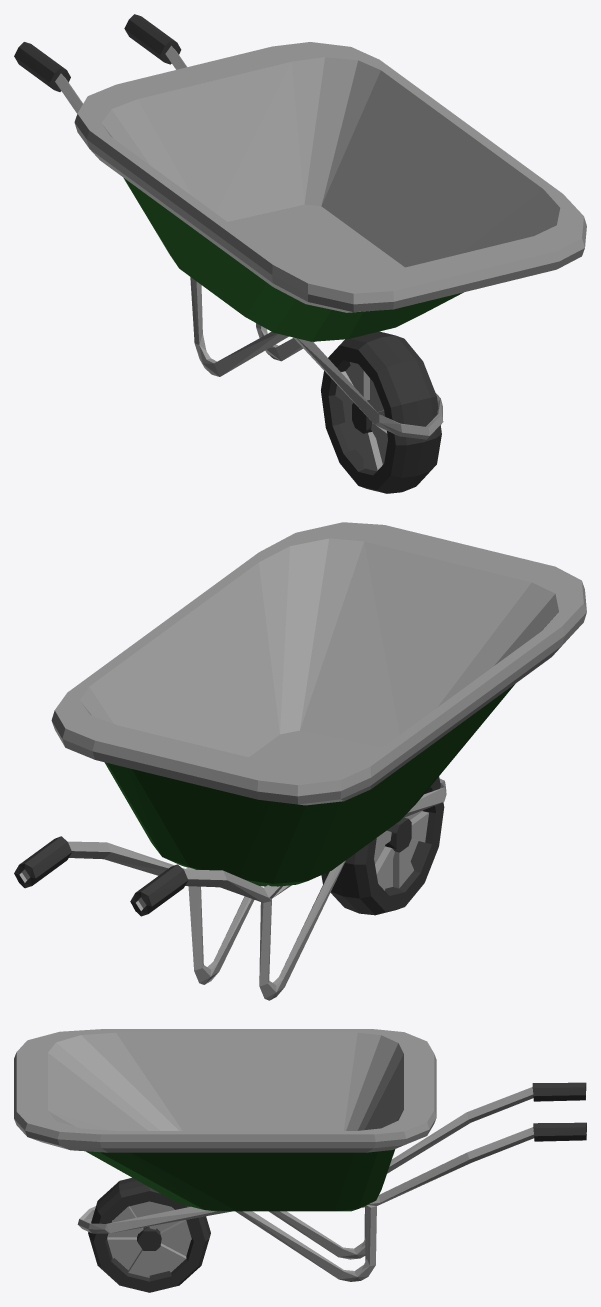
File: wheelbarrow.glb
The picture shows the model from 3 angles, top to bottom: view 1: azimuth 30°, elevation 25°; view 2: azimuth 150°, elevation 25°; view 3: azimuth 270°, elevation 25°; orthographic projection. The views are drawn at different scales.
Parts seen in each view (by area): view 1: Wheelbarrow; view 2: Wheelbarrow; view 3: Wheelbarrow.
Boxes of the visible parts, x1,y1,x2,y2 form: Wheelbarrow: (14,14,586,493); Wheelbarrow: (14,522,586,1000); Wheelbarrow: (14,1029,586,1292).
Size of the model in its own units: 0.1057 by 0.0964 by 0.24.
